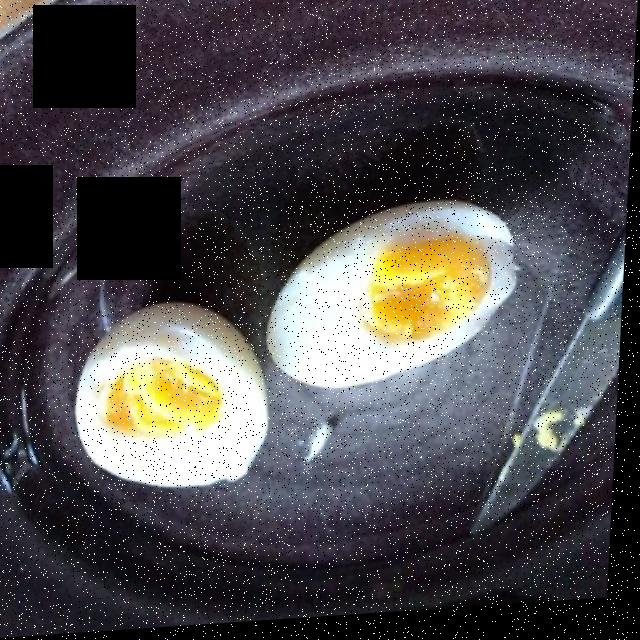egg: (60, 199, 509, 503)
